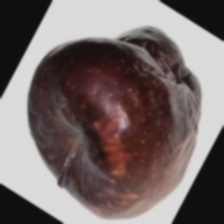apple: (51, 36, 208, 224)
